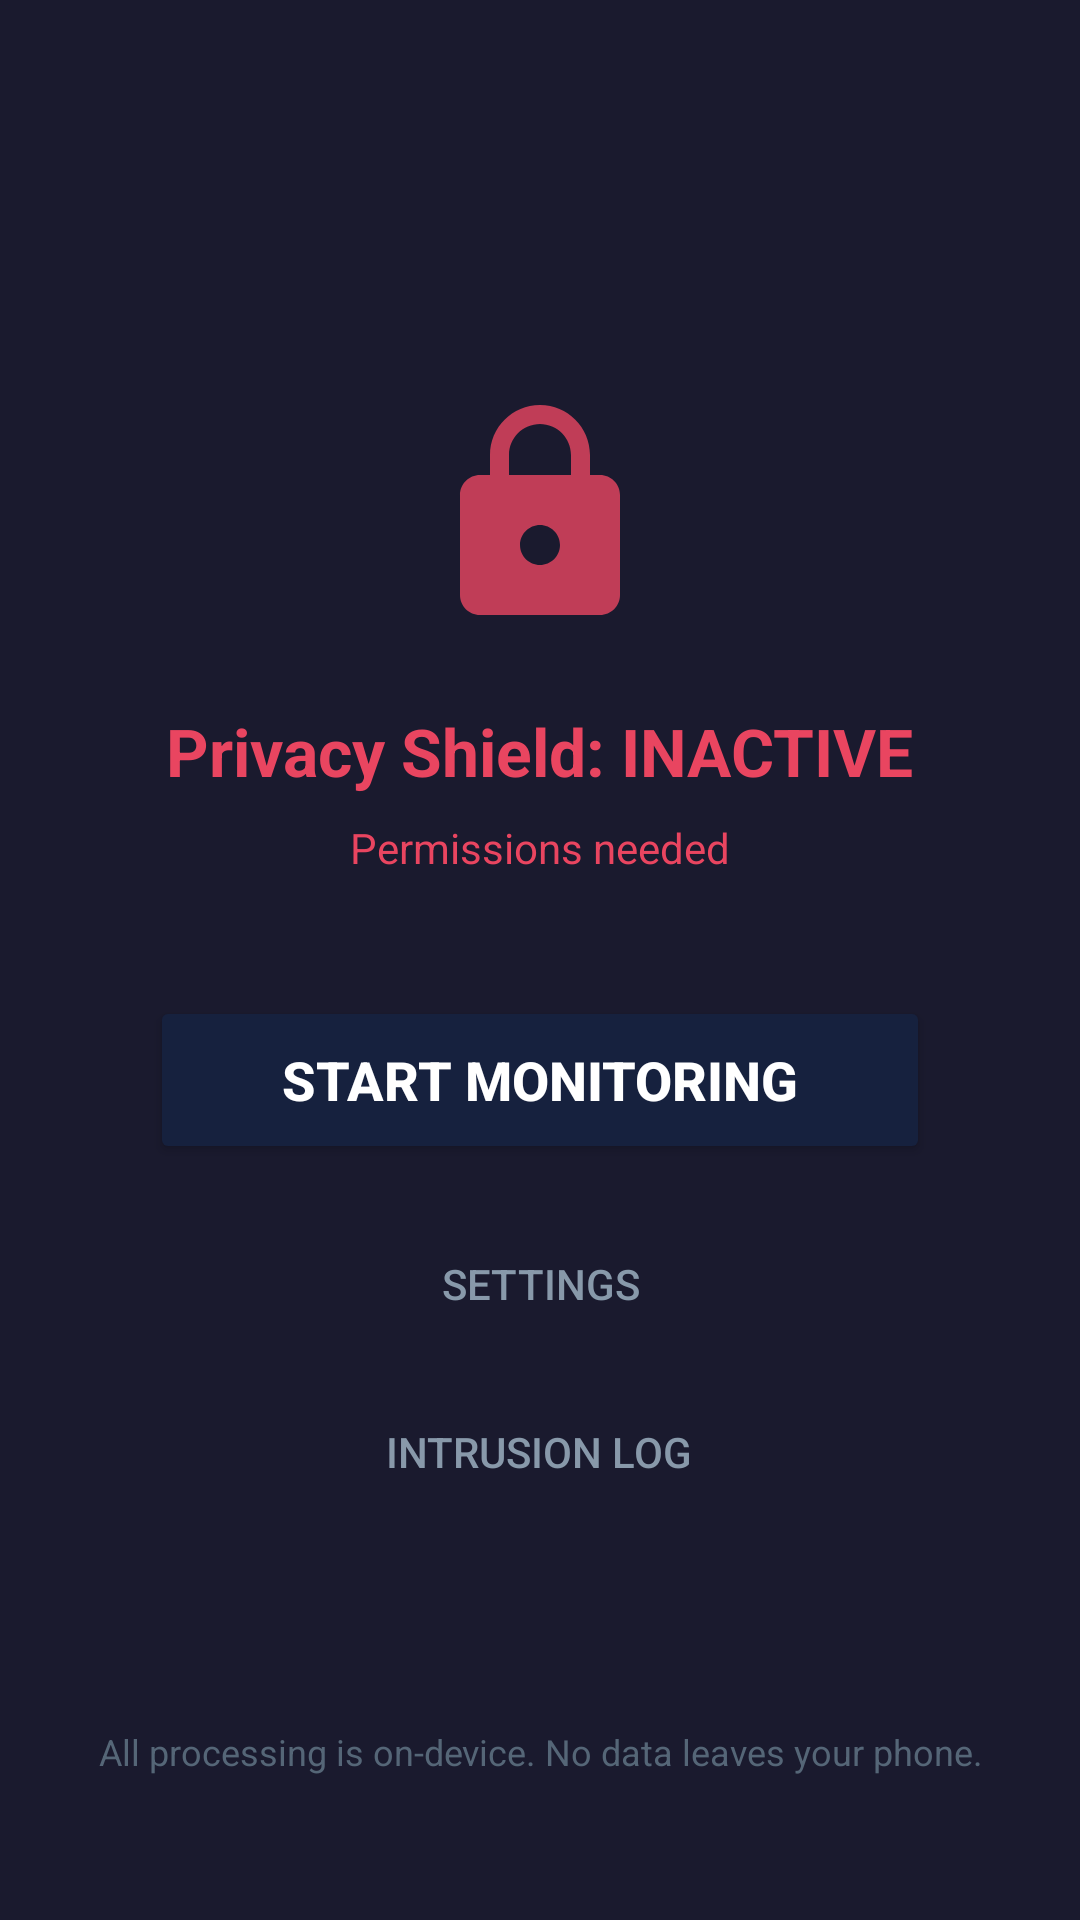

Screen size 1080 × 1920. Icon name, then its box in pixels as {"left": x1, "top": y1, "right": x2, "bottom": y2}:
lock: {"left": 460, "top": 405, "right": 620, "bottom": 615}
